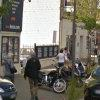Motorcycle: (42, 65, 73, 98)
